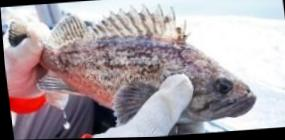fish: (8, 3, 254, 127)
